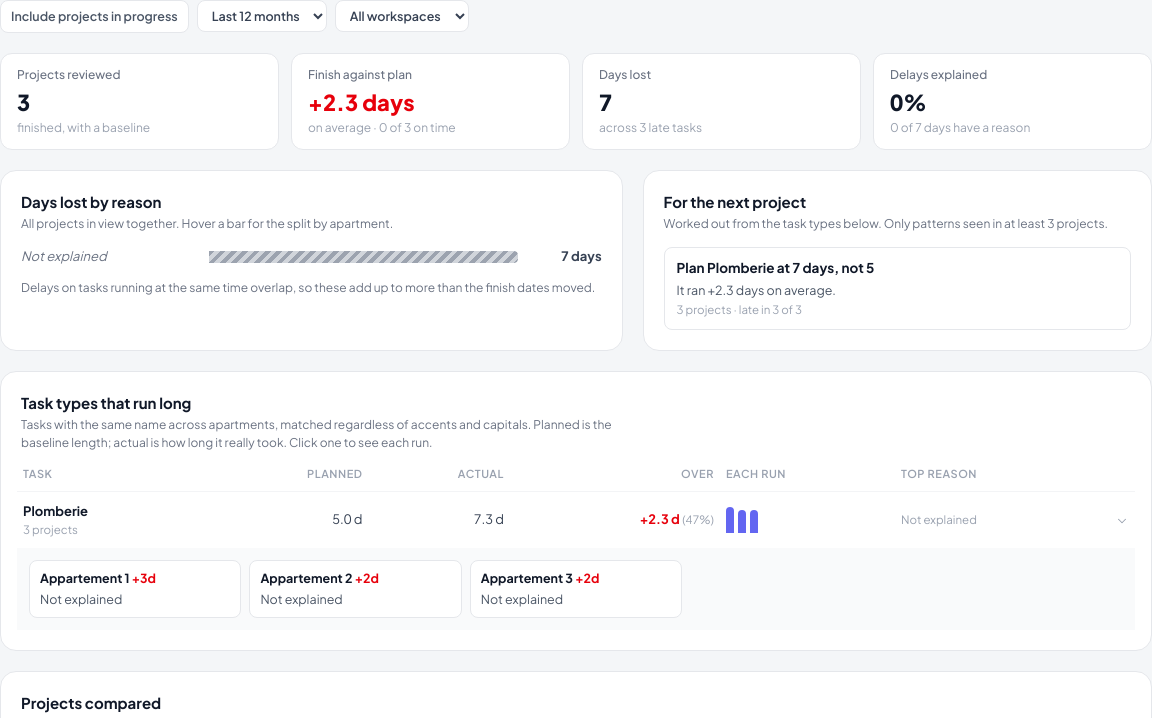
LessonsTab › filters to one workspace and remembers it
Select "Appartement 2" in the 2nd dropdown named "Workspace": (402, 16) [335,0,469,32]
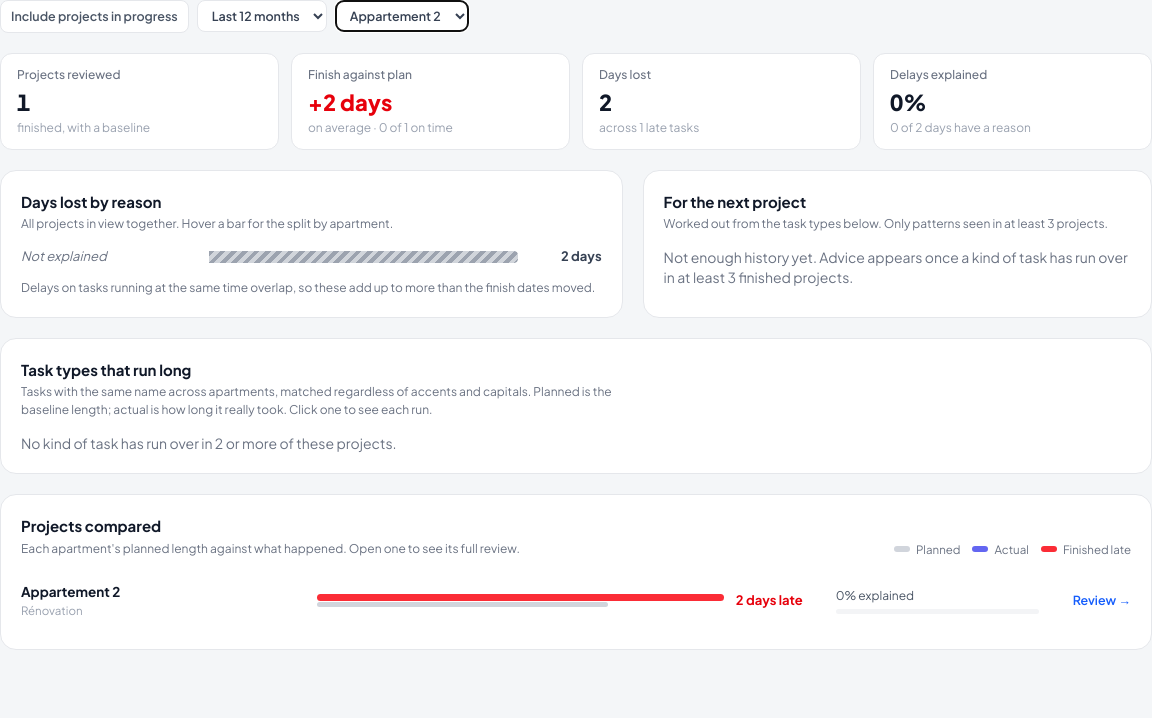
Now the number of buttons "Review →" is 1, box [1073,591,1131,610]
Now the text "Not enough history yet" is shown, box [664,248,1128,286]
